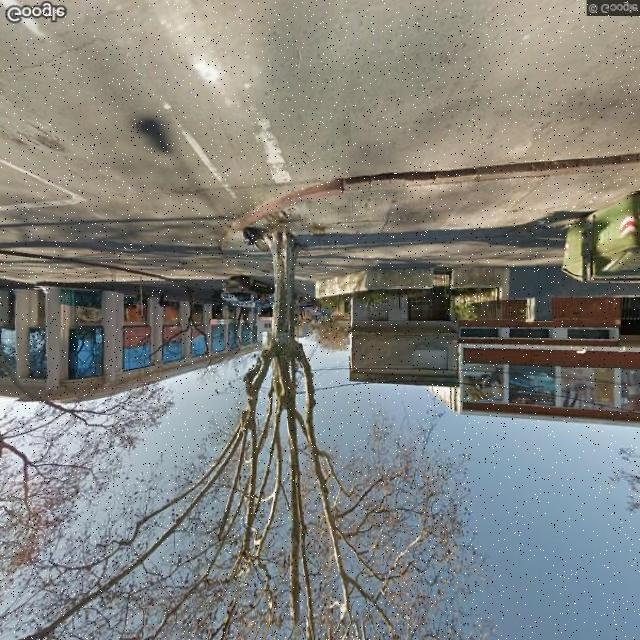garbage container: (551, 183, 640, 293)
